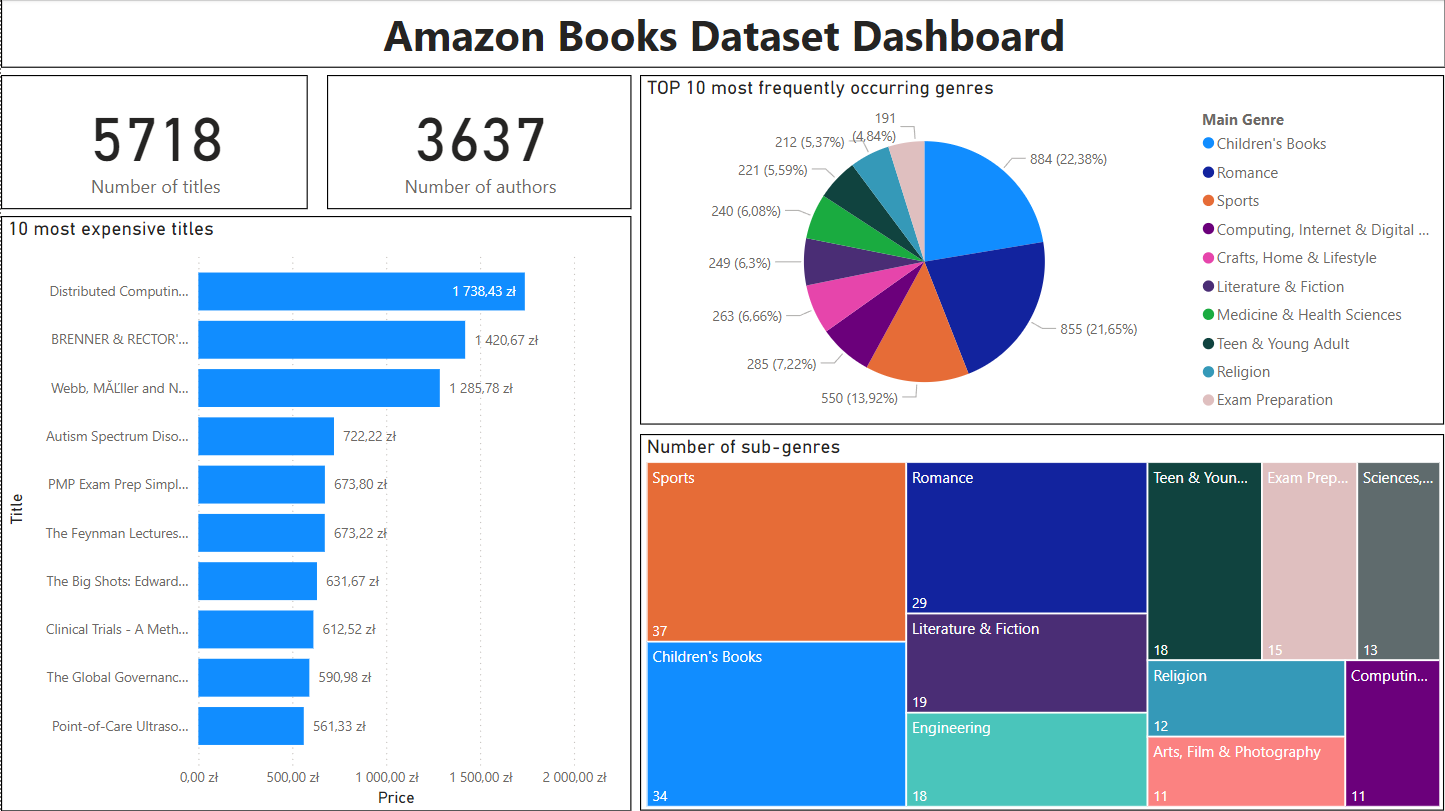

The dashboard page shown, as its layout file describes it:
{"tool":"powerbi","page":{"name":"Strona 1","canvas":[1280,720],"ordinal":0},"visuals":[{"type":"card","fields":{"Values":["books_extracted.number_of_authors"]},"box":[288.9,67.8,270,118.9],"z":0},{"type":"card","fields":{"Values":["books_extracted.number_of_titles"]},"box":[0,67.8,272.2,118.9],"z":1000},{"type":"textbox","box":[0,0,1280.8,60.8],"z":2000},{"type":"pieChart","title":"TOP 10 most frequently occurring genres","fields":{"Y":["books_extracted.number_of_titles"],"Category":["books_extracted.Main Genre"]},"box":[566.7,67.8,713.3,310],"z":3000},{"type":"clusteredBarChart","title":"10 most expensive titles","fields":{"Category":["books_extracted.Title"],"Y":["books_extracted.Price"]},"box":[0,192.2,558.9,527.8],"z":5000},{"type":"treemap","title":"Number of sub-genres","fields":{"Values":["books_extracted.Number of Sub-genres"],"Group":["books_extracted.Main Genre"]},"box":[566.7,385.6,713.3,334.4],"z":6000}]}

Visuals, with their boxes in screenshot pixels (x1, y1, x2, y2), scaled from the page's 1280x720 canvas onto the 1445x811 screenshot:
card - books_extracted.number_of_authors: [326,76,631,210]
card - books_extracted.number_of_titles: [0,76,307,210]
textbox: [0,0,1444,68]
"TOP 10 most frequently occurring genres" pieChart: [640,76,1444,426]
"10 most expensive titles" clusteredBarChart: [0,216,631,810]
"Number of sub-genres" treemap: [640,434,1444,810]
